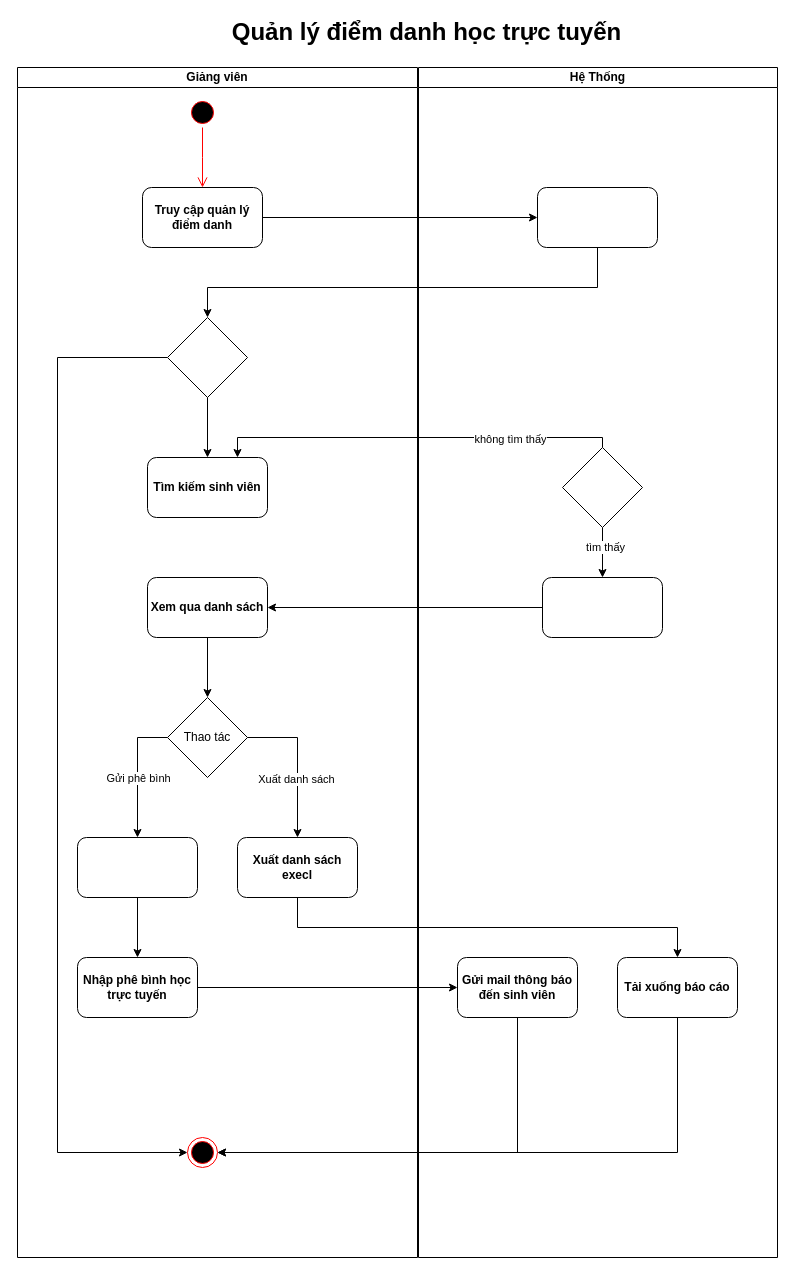
Some shapes in this 795 by 1275 pixel diagram are drawn without their labels. The shapes that lost their labels are listed below. From the top down, each one's centre as x and y in pixels, then its label:
At [597,217]: "Hiển thị danh sách sinh viên điểm danh".
At [207,357]: "Chỉ xem hoặc tìm kiếm sinh viên".
At [602,487]: "Tìm kiếm theo từ khóa hoặc bộ lọc".
At [602,607]: "Hiển thị danh sách tìm kiếm".
At [137,867]: "Chọn sinh viên cụ thể".
